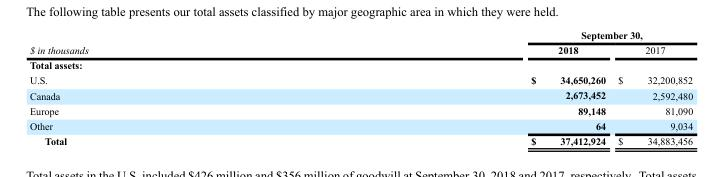table: (28, 28, 692, 146)
table column: (309, 28, 611, 146), (28, 28, 309, 146), (611, 28, 692, 146)
table column header: (28, 28, 692, 57)
table projected row header: (28, 57, 692, 72)
table row: (28, 41, 692, 57), (28, 57, 692, 72), (28, 72, 692, 87), (28, 87, 692, 102), (28, 102, 692, 117), (28, 117, 692, 132), (28, 132, 692, 146), (28, 28, 692, 41)
table spanning cell: (28, 28, 309, 57), (309, 28, 692, 41)
